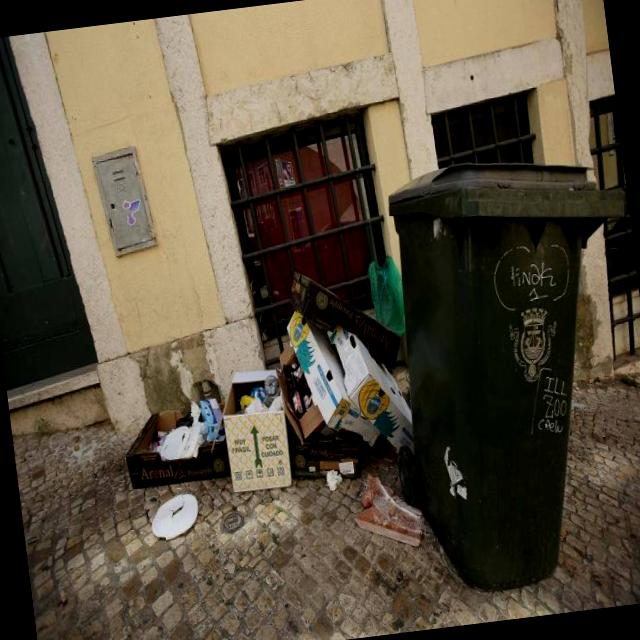garbage: (81, 122, 640, 639)
